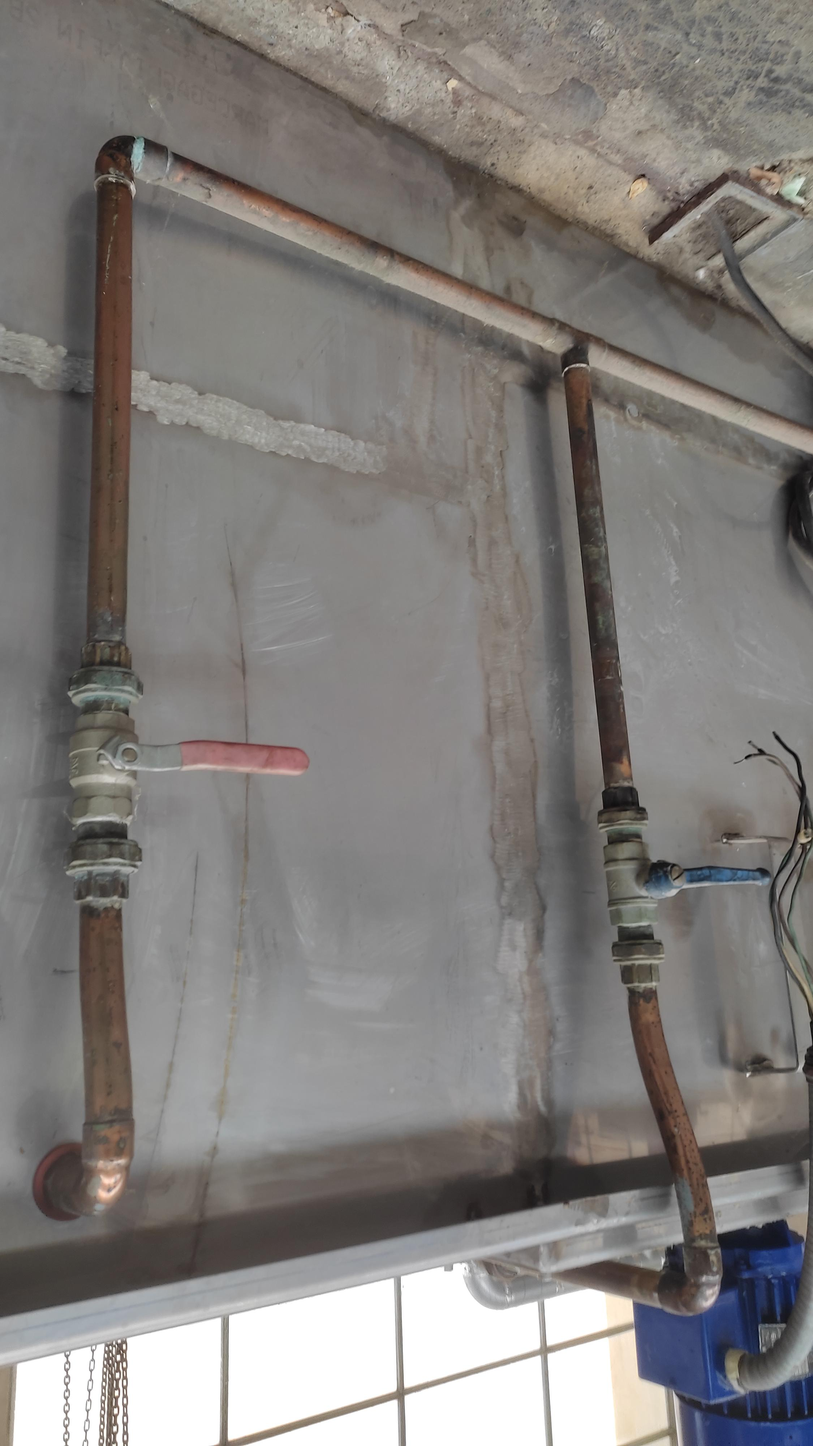closed valve: (65, 708, 313, 830), (602, 840, 774, 929)
